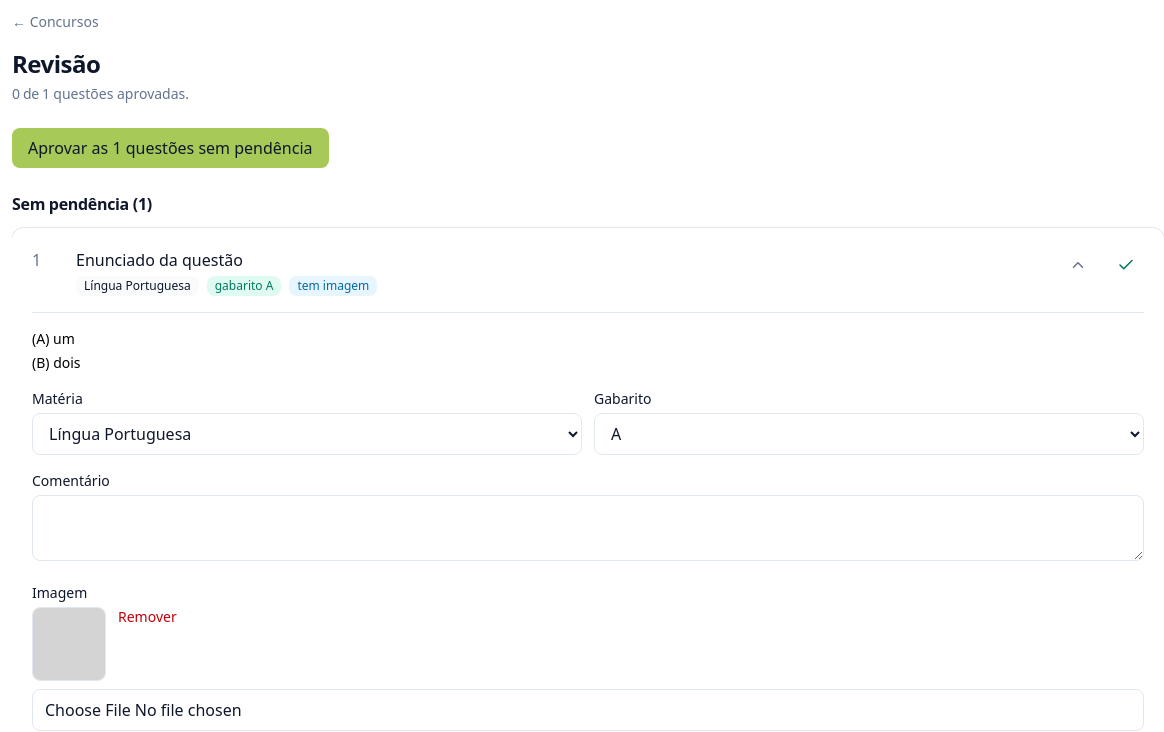
Test case: RevisaoQuestoesComponent › mostra a imagem anexada e deixa removê-la
Click the button "Remover": click(147, 617) [118,607,177,627]
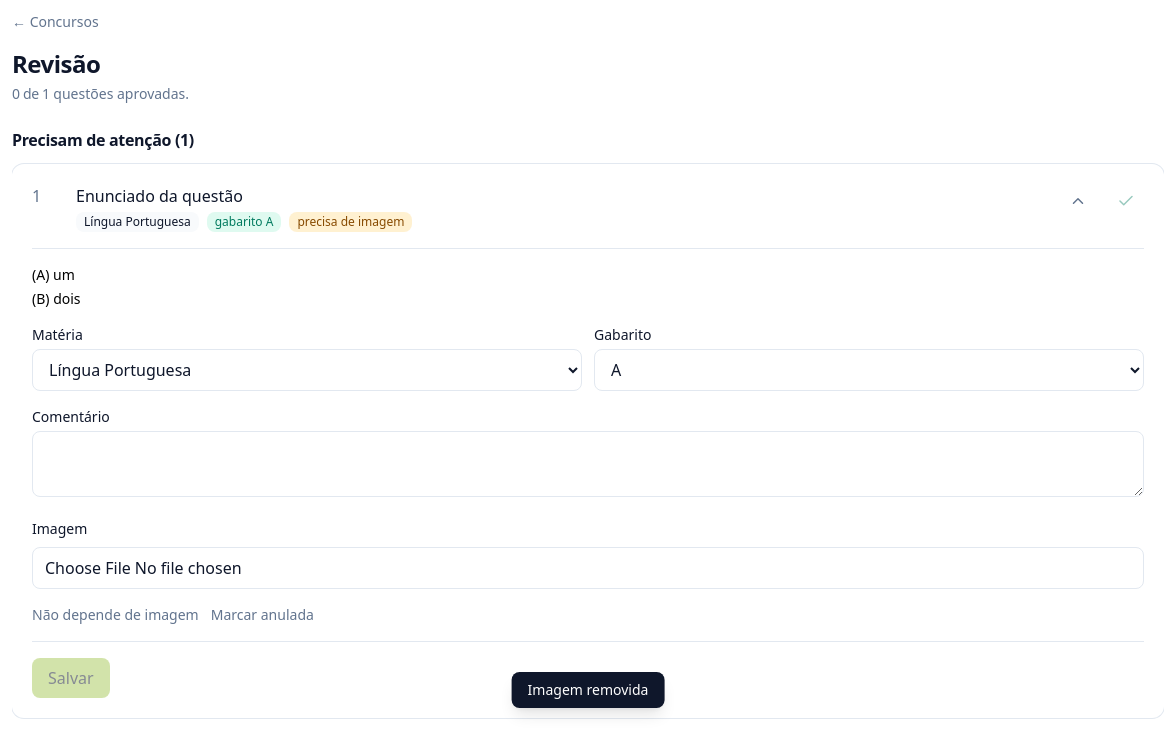
Now the picture is gone
